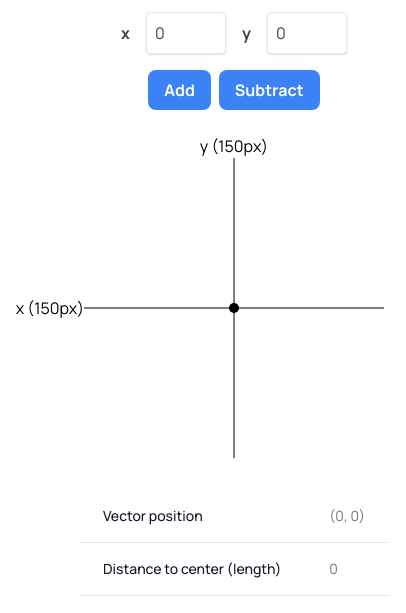
Test: JVector › renders length of vector
Type "3" into the number field labelled "x".
click(186, 33); type("3")  # box [146, 12, 226, 54]
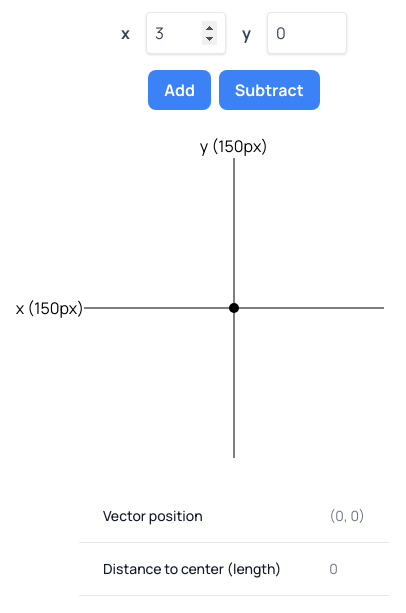
Type "4" into the number field labelled "y".
click(307, 33); type("4")  # box [267, 12, 347, 54]
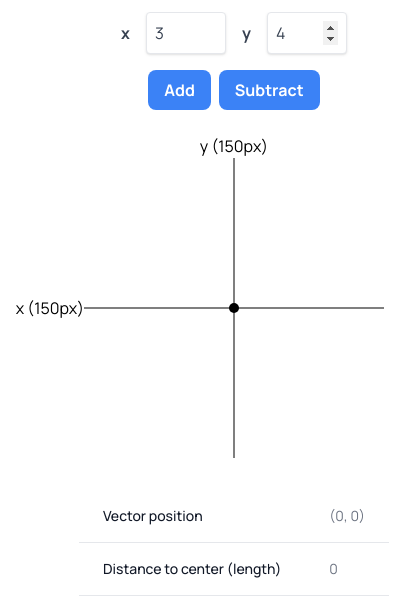
Click the button "Add".
click(180, 90)  # box [148, 70, 211, 110]
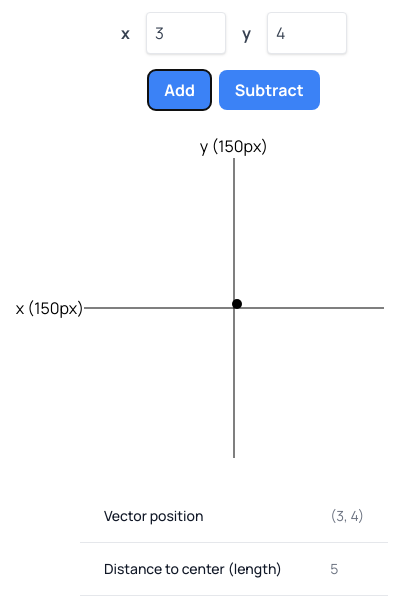
Now the text "5" is shown, box [306, 542, 388, 596]
